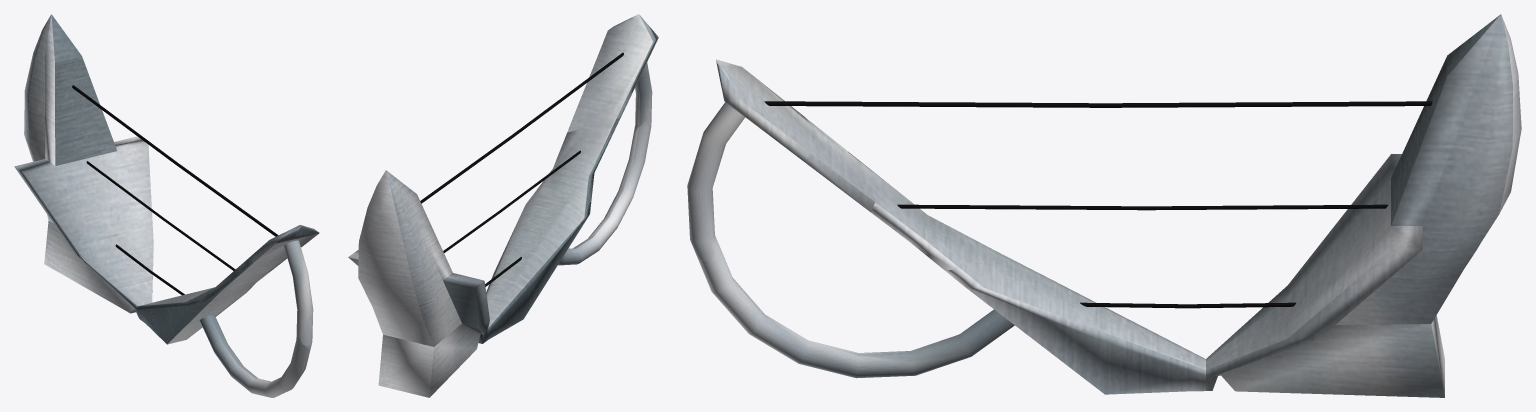
The model's file is CableBuildingShatter.fbx.
3 renders of one model, left to right at view 1: azimuth 30°, elevation 25°; view 2: azimuth 150°, elevation 25°; view 3: azimuth 270°, elevation 25°, orthographic. The views are drawn at different scales.
Parts seen in each view (by area): view 1: ThickEnd, shard21, shard17, shard16, shard22, shard23, shard19, shard10, shard18, shard11, shard9, shard24; view 2: ThickEnd, shard21, shard23, shard17, shard22, shard19, shard24, shard20, shard16, shard18, shard10, shard9 (+1 smaller); view 3: ThickEnd, shard21, shard18, shard19, shard16, shard24, shard10, shard23, shard9, shard22, shard11, shard20.
Part boxes in pixels (left/top/right/bottom): ThickEnd: left=14, top=14, right=153, bottom=319; shard21: left=137, top=289, right=249, bottom=344; shard17: left=199, top=315, right=307, bottom=397; shard16: left=284, top=240, right=313, bottom=351; shard22: left=196, top=267, right=255, bottom=301; shard23: left=251, top=225, right=302, bottom=267; shard19: left=260, top=225, right=319, bottom=272; shard10: left=72, top=85, right=191, bottom=175; shard18: left=210, top=315, right=309, bottom=397; shard11: left=86, top=161, right=193, bottom=240; shard9: left=189, top=171, right=278, bottom=236; shard24: left=231, top=271, right=269, bottom=295; ThickEnd: left=348, top=170, right=489, bottom=397; shard21: left=485, top=190, right=591, bottom=341; shard23: left=592, top=14, right=658, bottom=113; shard17: left=558, top=119, right=651, bottom=265; shard22: left=555, top=118, right=620, bottom=204; shard19: left=568, top=17, right=633, bottom=129; shard24: left=537, top=125, right=594, bottom=197; shard20: left=567, top=88, right=631, bottom=132; shard16: left=633, top=62, right=652, bottom=133; shard18: left=568, top=129, right=637, bottom=249; shard10: left=420, top=124, right=530, bottom=203; shard9: left=526, top=52, right=623, bottom=124; ThickEnd: left=1206, top=14, right=1521, bottom=397; shard21: left=945, top=240, right=1205, bottom=394; shard18: left=696, top=239, right=1014, bottom=378; shard19: left=717, top=65, right=874, bottom=212; shard16: left=687, top=102, right=745, bottom=261; shard24: left=862, top=176, right=973, bottom=270; shard10: left=1063, top=101, right=1432, bottom=107; shard23: left=716, top=59, right=848, bottom=169; shard9: left=764, top=101, right=1067, bottom=107; shard22: left=848, top=151, right=975, bottom=251; shard11: left=1051, top=204, right=1388, bottom=210; shard20: left=805, top=117, right=879, bottom=206.
Bounding box in the file's own units: 8.64 × 15.76 × 31.82.
3 materials, 1 textured.
